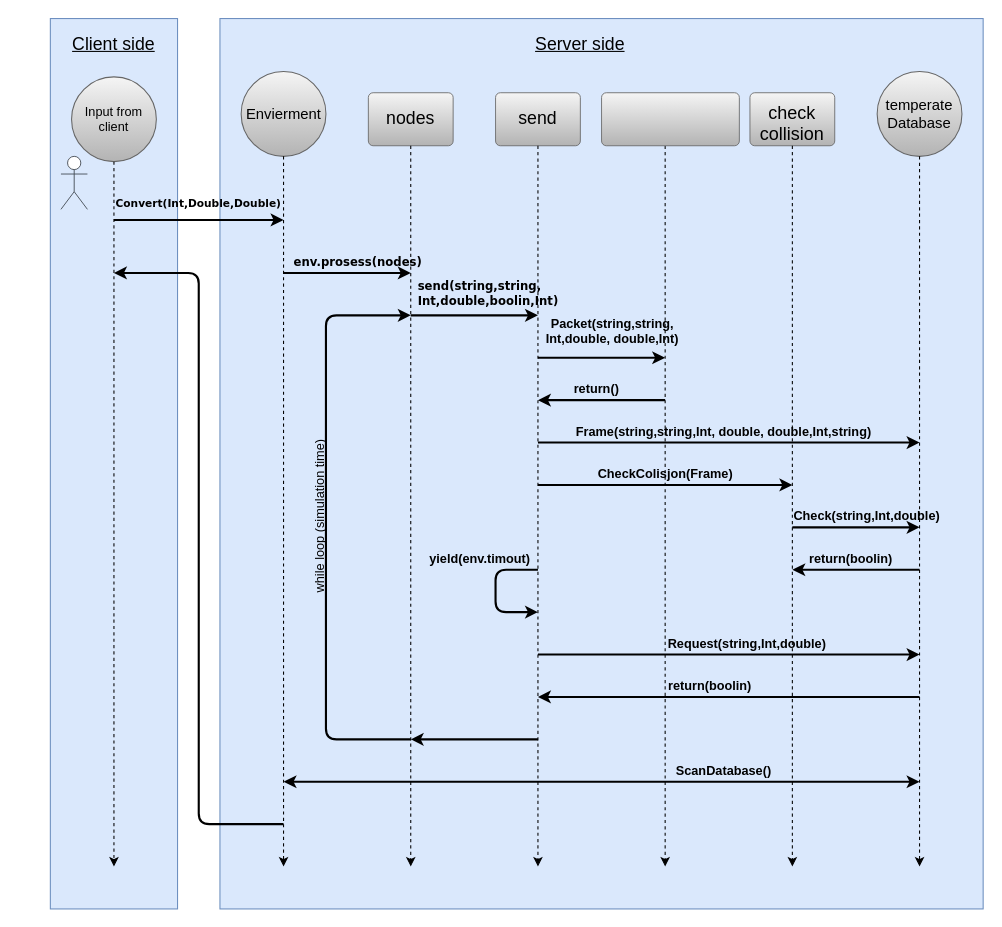
Some shapes in this 1002 by 927 pixel diagram are drawn without their labels. Here are the shapes that lost their labels. From the top down, the centre of each, then its label:
the point at 670,119: class(package)
the point at 73,182: User
